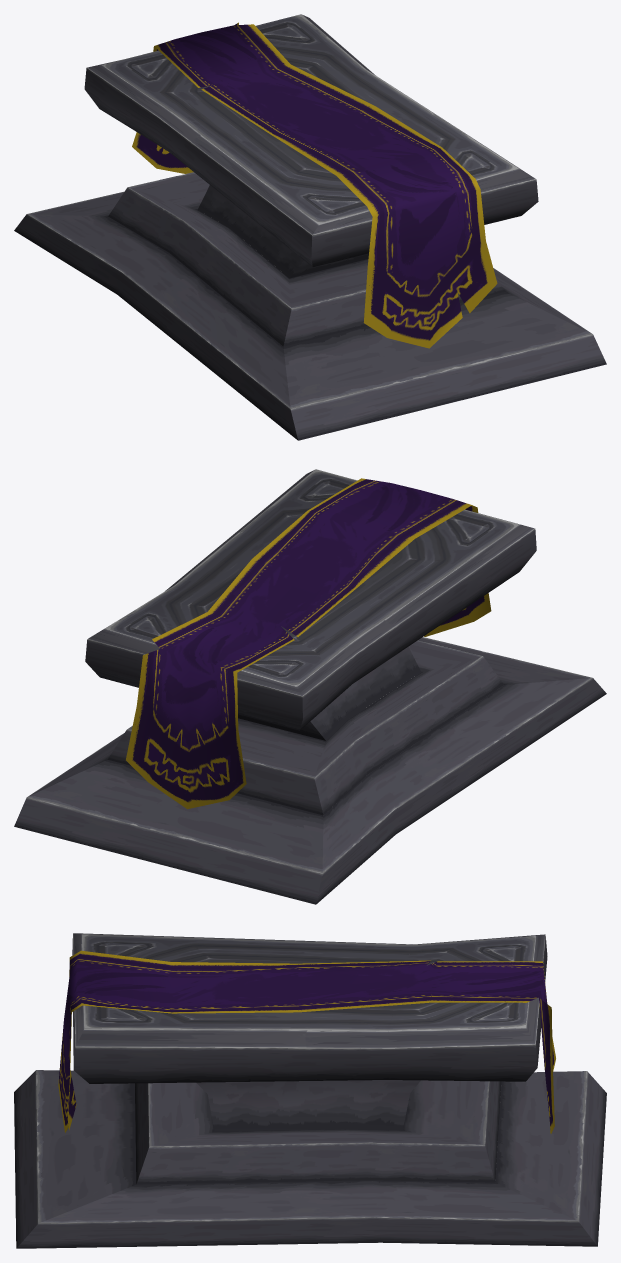
The model's file is SM_PROP_altar_dungeon_02.fbx.
3 renders of one model, top to bottom at view 1: azimuth 30°, elevation 25°; view 2: azimuth 150°, elevation 25°; view 3: azimuth 270°, elevation 25°, orthographic. The views are drawn at different scales.
Visible parts, largest first — view 1: SM_PROP_altar_dungeon_02, SM_PROP_altar_cloth_dungeon_02; view 2: SM_PROP_altar_dungeon_02, SM_PROP_altar_cloth_dungeon_02; view 3: SM_PROP_altar_dungeon_02, SM_PROP_altar_cloth_dungeon_02.
Part boxes in pixels (x1=…): SM_PROP_altar_dungeon_02: x1=14, y1=14, x2=606, y2=440; SM_PROP_altar_cloth_dungeon_02: x1=132, y1=22, x2=497, y2=348; SM_PROP_altar_dungeon_02: x1=14, y1=469, x2=606, y2=904; SM_PROP_altar_cloth_dungeon_02: x1=126, y1=478, x2=491, y2=809; SM_PROP_altar_dungeon_02: x1=14, y1=933, x2=606, y2=1248; SM_PROP_altar_cloth_dungeon_02: x1=58, y1=950, x2=555, y2=1133.
Bounding box in the file's own units: 139 × 79.8 × 222.
